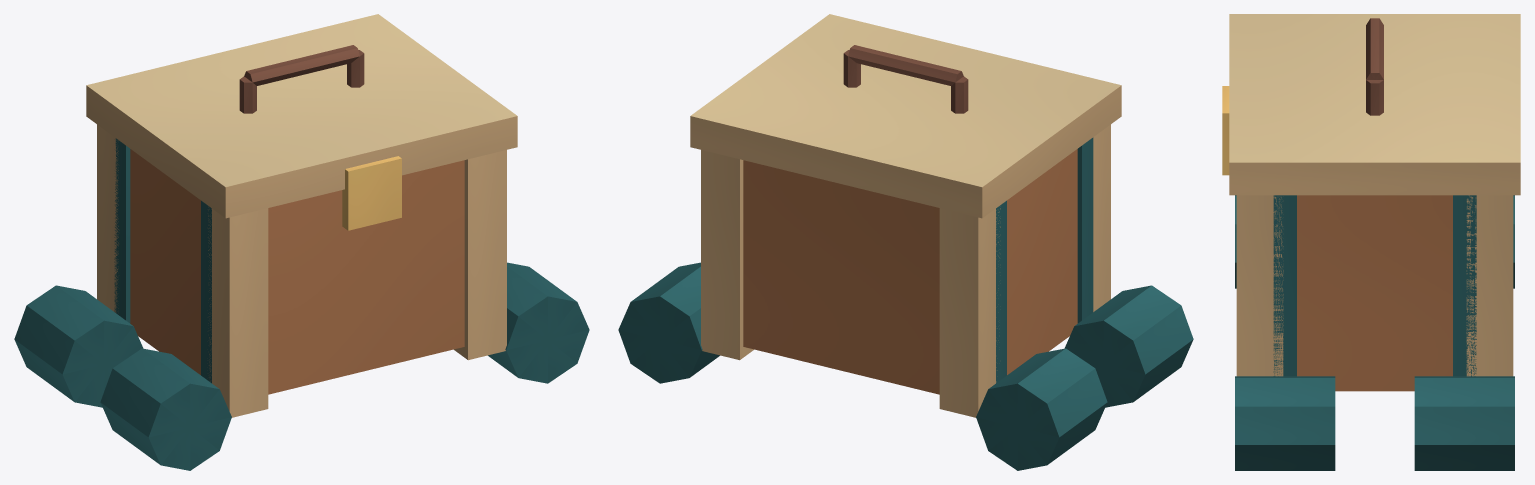
Rendered from ammo_crate.glb.
The picture shows the model from 3 angles, left to right: view 1: azimuth 30°, elevation 25°; view 2: azimuth 150°, elevation 25°; view 3: azimuth 270°, elevation 25°; orthographic projection. The views are drawn at different scales.
Visible parts, largest first — view 1: crate; view 2: crate; view 3: crate.
Boxes of the visible parts, x1=… form: crate: x1=14, y1=14, x2=589, y2=470; crate: x1=618, y1=14, x2=1193, y2=470; crate: x1=1222, y1=14, x2=1520, y2=470.
Bounding box in the file's own units: 1.48 × 1.02 × 0.8295.
1 material, 1 textured.
